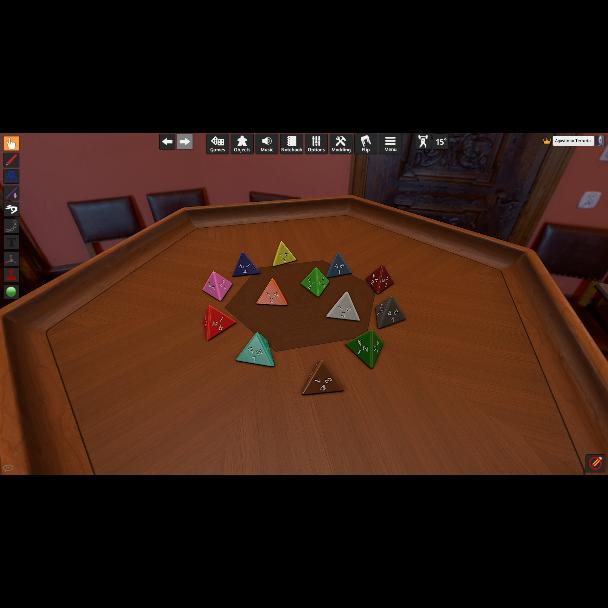d4: (347, 329, 383, 369), (302, 361, 340, 395), (236, 333, 274, 367), (204, 304, 236, 340), (376, 296, 406, 328), (326, 292, 358, 322), (202, 272, 232, 302), (365, 264, 393, 296), (256, 278, 286, 306), (302, 268, 327, 298), (232, 253, 260, 278), (326, 252, 352, 278), (272, 241, 296, 267)
